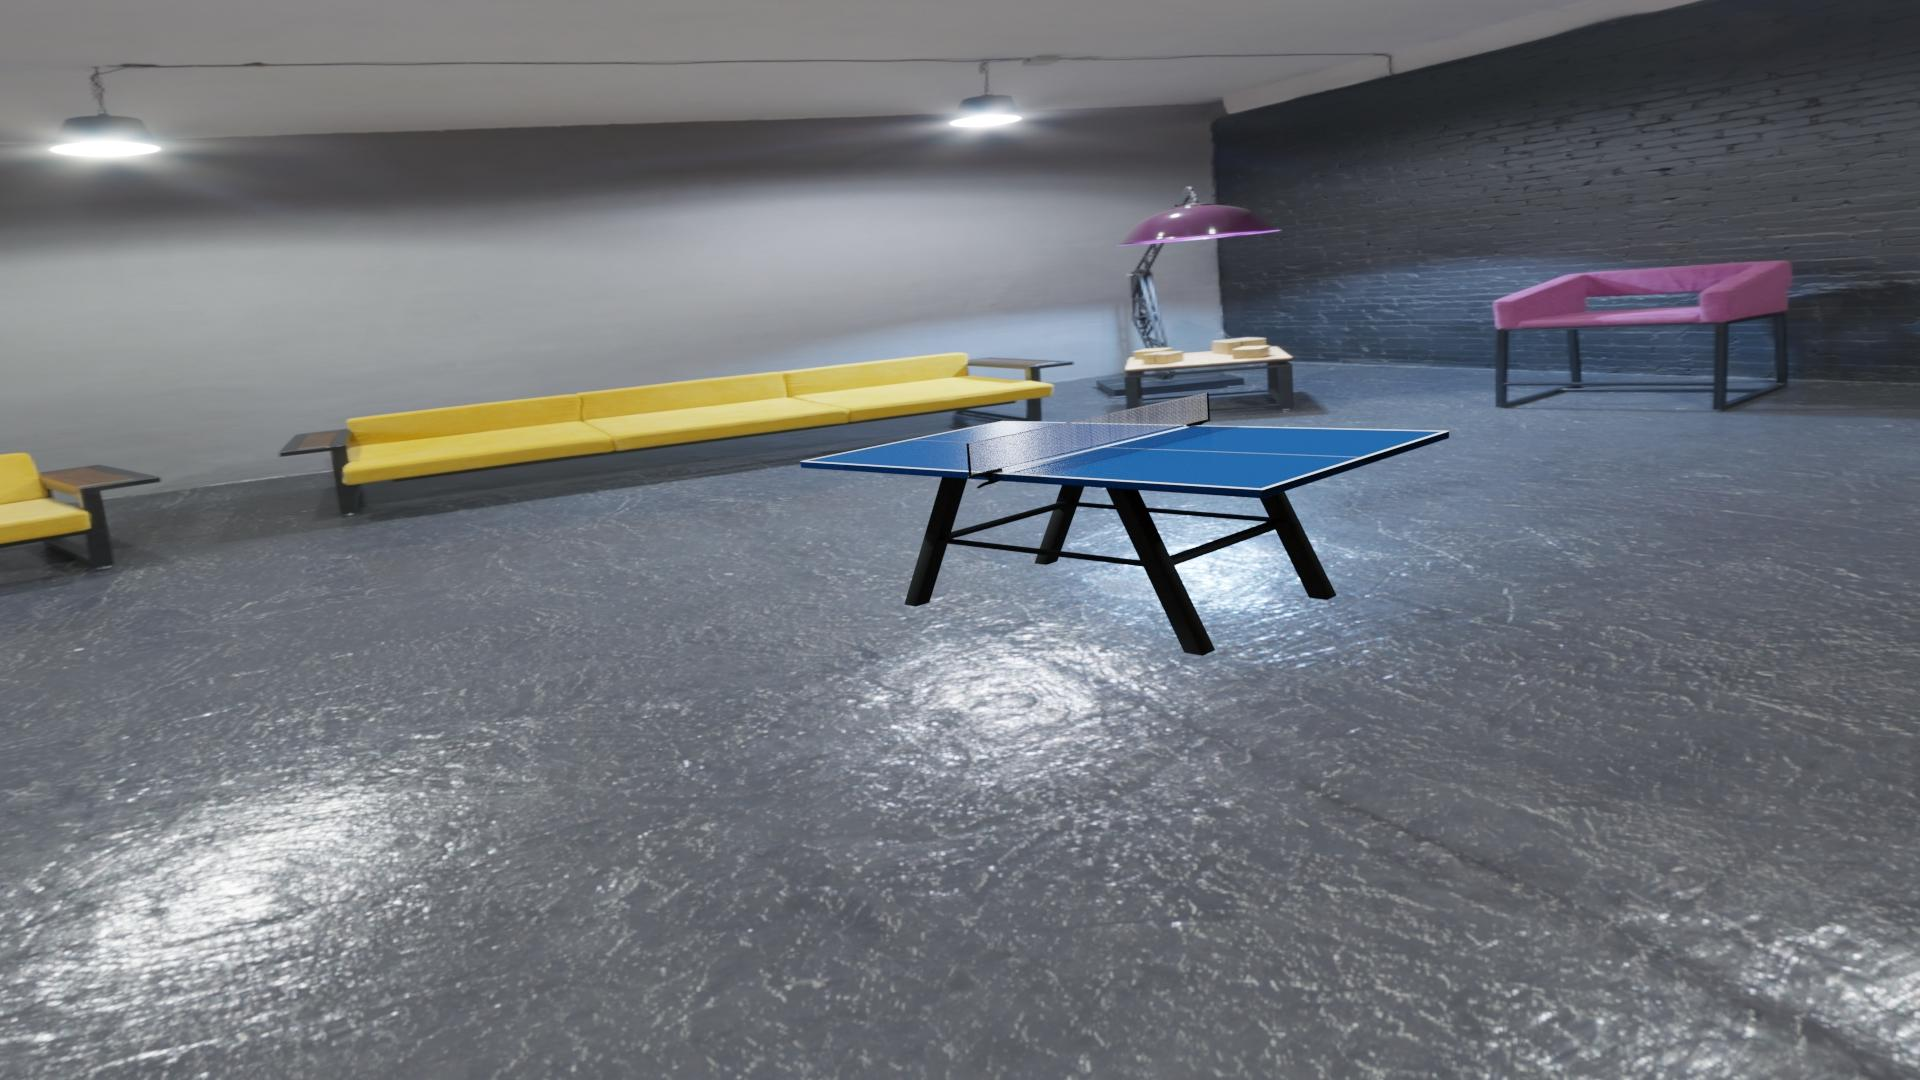table: (806, 422, 1443, 489)
